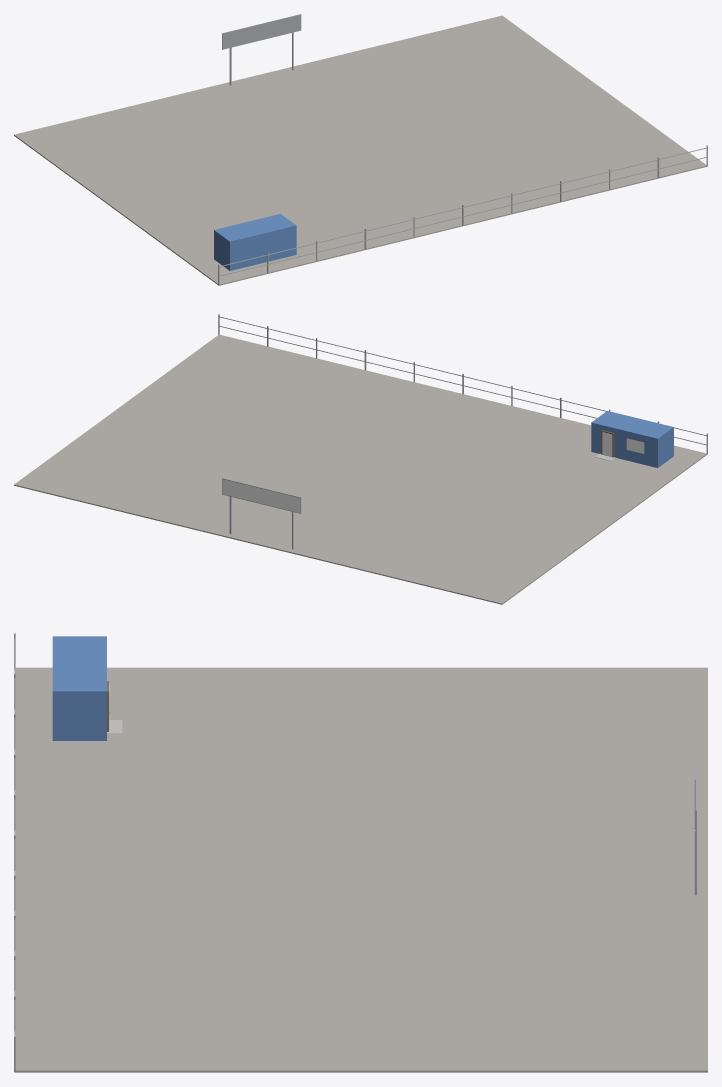
File: car_market.glb
The picture shows the model from 3 angles, top to bottom: view 1: azimuth 30°, elevation 25°; view 2: azimuth 150°, elevation 25°; view 3: azimuth 270°, elevation 25°; orthographic projection. The views are drawn at different scales.
Visible parts, largest first — view 1: car_market; view 2: car_market; view 3: car_market.
Boxes of the visible parts, box(x1,y1,x2,y2) form: car_market: box(14, 14, 707, 285); car_market: box(14, 314, 707, 604); car_market: box(14, 633, 707, 1072).
Size of what is drawn, in the model's own units: 44.08 by 4.8 by 32.04.
